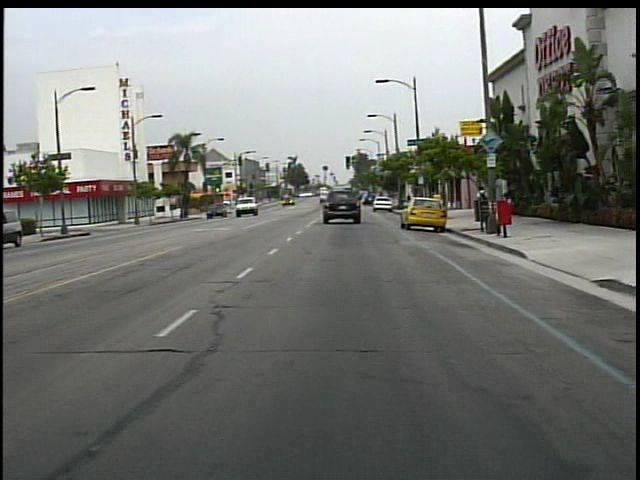person: (470, 183, 491, 221)
